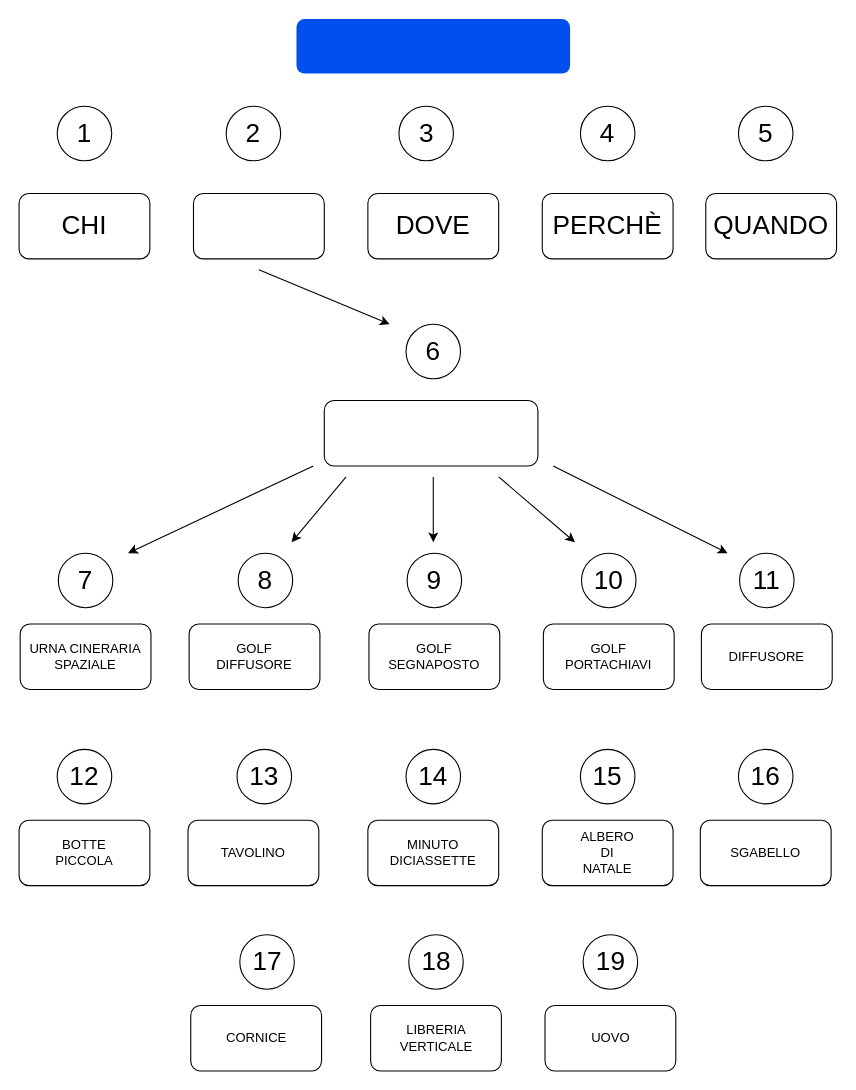
Some shapes in this 856 by 1090 pixel diagram are drawn without their labels. The shapes that lost their labels are listed below. From the top down, each one's box as (x1, y1, x2, y2) in pixels, then its label:
(296, 19, 570, 73): AMOSPHAERA
(192, 192, 324, 259): COSA
(323, 399, 538, 466): PRODOTTI
